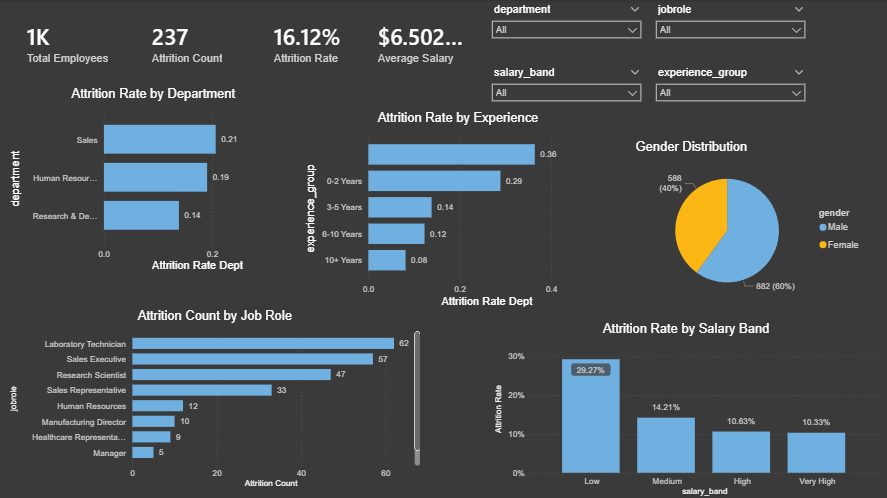

What the dashboard file says about the page in this screenshot:
{"tool":"powerbi","page":{"name":"Dashboard","canvas":[1280,720],"ordinal":0},"visuals":[{"type":"cardVisual","fields":{"Data":["cleaned_hr_data.Total Employees"]},"box":[10.1,0,193.2,120.9],"z":0},{"type":"cardVisual","fields":{"Data":["cleaned_hr_data.Attrition Count"]},"box":[189.8,0,193.2,120.9],"z":1000},{"type":"cardVisual","fields":{"Data":["cleaned_hr_data.Attrition Rate"]},"box":[366.2,0,193.2,120.9],"z":2000},{"type":"clusteredBarChart","title":"Attrition Rate by Department","fields":{"Category":["cleaned_hr_data.department"],"Y":["cleaned_hr_data.Attrition Rate Dept"]},"box":[10.2,124.4,424.4,272.2],"z":3000},{"type":"lineClusteredColumnComboChart","title":"Attrition Rate by Salary Band","fields":{"Category":["cleaned_hr_data.salary_band"],"Y":["cleaned_hr_data.Attrition Rate"]},"box":[708.3,462.4,562,257.6],"z":4000},{"type":"clusteredBarChart","title":"Attrition Rate by Experience","fields":{"Category":["cleaned_hr_data.experience_group"],"Y":["cleaned_hr_data.Attrition Rate Dept"]},"box":[434.6,158,452.2,288.3],"z":5000},{"type":"clusteredBarChart","title":"Attrition Count by Job Role","fields":{"Category":["cleaned_hr_data.jobrole"],"Y":["cleaned_hr_data.Attrition Count"]},"box":[10.2,443.4,601.5,264.9],"z":6000},{"type":"pieChart","title":"Gender Distribution","fields":{"Category":["cleaned_hr_data.gender"],"Y":["cleaned_hr_data.Total Employees"]},"box":[911.7,200.5,341,242.9],"z":7000},{"type":"slicer","fields":{"Values":["cleaned_hr_data.department"]},"box":[700.5,0,235.2,90.7],"z":8000},{"type":"cardVisual","fields":{"Data":["cleaned_hr_data.Average Salary"]},"box":[515.7,0,193.2,120.9],"z":9000},{"type":"slicer","fields":{"Values":["cleaned_hr_data.jobrole"]},"box":[935.6,0,235.2,90.7],"z":10000},{"type":"slicer","fields":{"Values":["cleaned_hr_data.experience_group"]},"box":[935.6,90.7,235.2,94.1],"z":11000},{"type":"slicer","fields":{"Values":["cleaned_hr_data.salary_band"]},"box":[700.5,90.7,235.2,67.2],"z":11001}]}

Visuals, with their boxes in screenshot pixels (x1, y1, x2, y2), scaled from the page's 1280x720 canvas onto the 887x498 screenshot:
cardVisual - cleaned_hr_data.Total Employees: l=7, t=0, r=141, b=84
cardVisual - cleaned_hr_data.Attrition Count: l=132, t=0, r=265, b=84
cardVisual - cleaned_hr_data.Attrition Rate: l=254, t=0, r=388, b=84
"Attrition Rate by Department" clusteredBarChart: l=7, t=86, r=301, b=274
"Attrition Rate by Salary Band" lineClusteredColumnComboChart: l=491, t=320, r=880, b=497
"Attrition Rate by Experience" clusteredBarChart: l=301, t=109, r=615, b=309
"Attrition Count by Job Role" clusteredBarChart: l=7, t=307, r=424, b=490
"Gender Distribution" pieChart: l=632, t=139, r=868, b=307
slicer - cleaned_hr_data.department: l=485, t=0, r=648, b=63
cardVisual - cleaned_hr_data.Average Salary: l=357, t=0, r=491, b=84
slicer - cleaned_hr_data.jobrole: l=648, t=0, r=811, b=63
slicer - cleaned_hr_data.experience_group: l=648, t=63, r=811, b=128
slicer - cleaned_hr_data.salary_band: l=485, t=63, r=648, b=109
